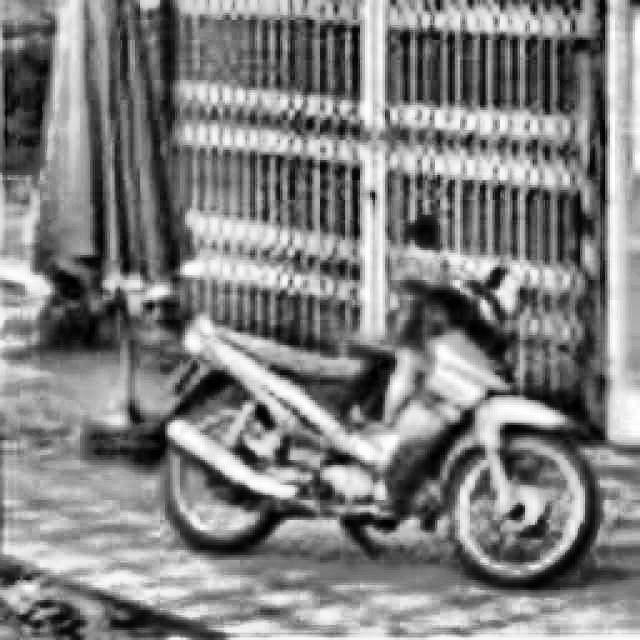motorcycle: (114, 210, 616, 591)
